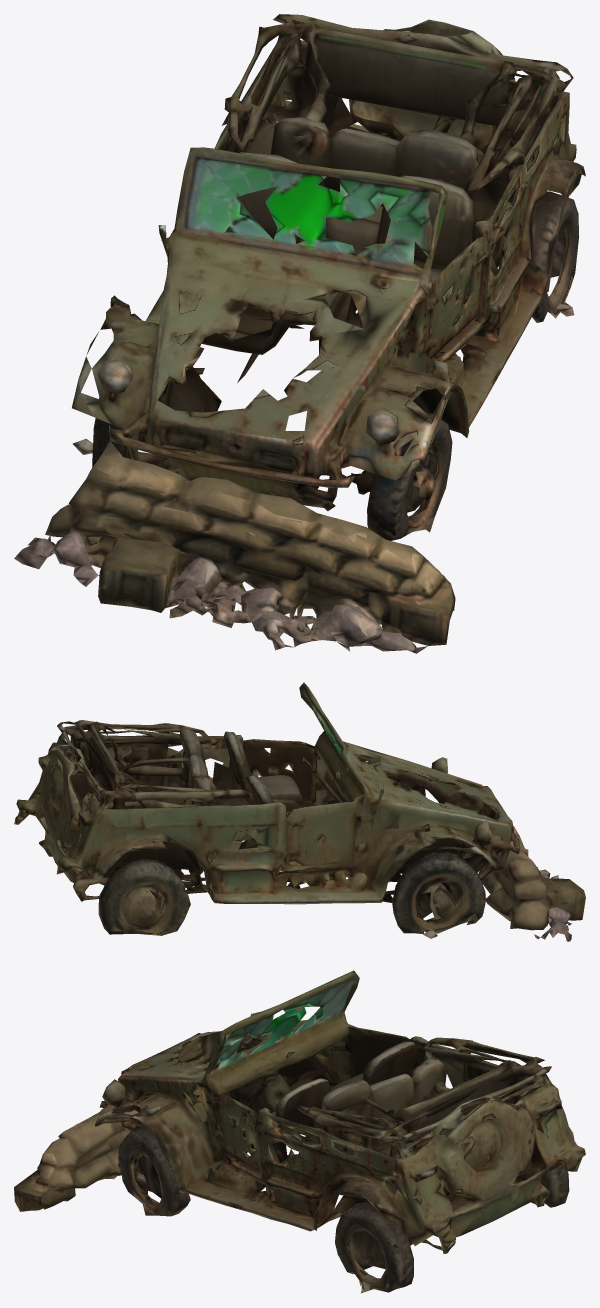
File: car.glb
3 views of the same model, one above another, from view 1: azimuth 30°, elevation 25°; view 2: azimuth 150°, elevation 25°; view 3: azimuth 270°, elevation 25° (orthographic). The views are drawn at different scales.
Visible parts, largest first — view 1: Mesh_0.001; view 2: Mesh_0.001; view 3: Mesh_0.001.
Boxes of the visible parts, box(x1,y1,x2,y2) form: Mesh_0.001: box(14, 14, 585, 653); Mesh_0.001: box(14, 682, 585, 941); Mesh_0.001: box(14, 970, 585, 1293).
Bounding box in the file's own units: 0.9009 × 0.4083 × 0.8983.
Materials: 1 (1 with a texture image).
